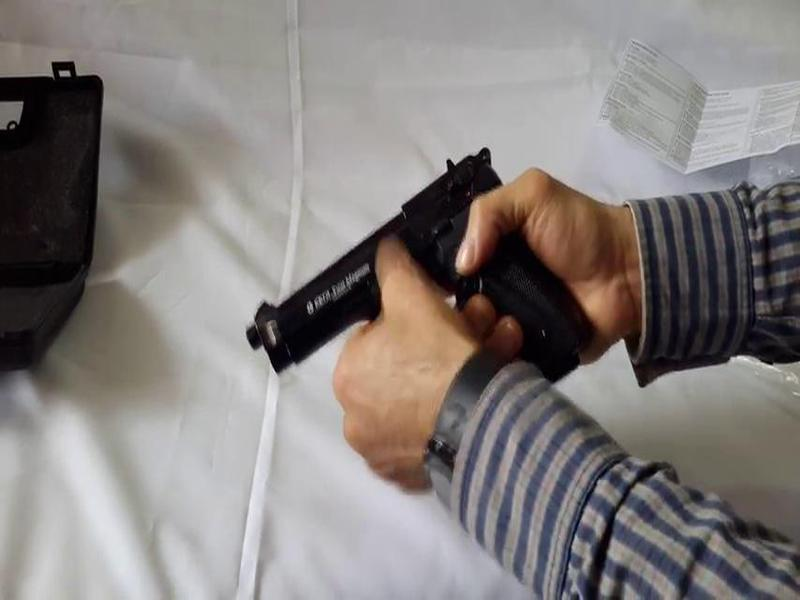Pistola: (253, 132, 594, 398)
